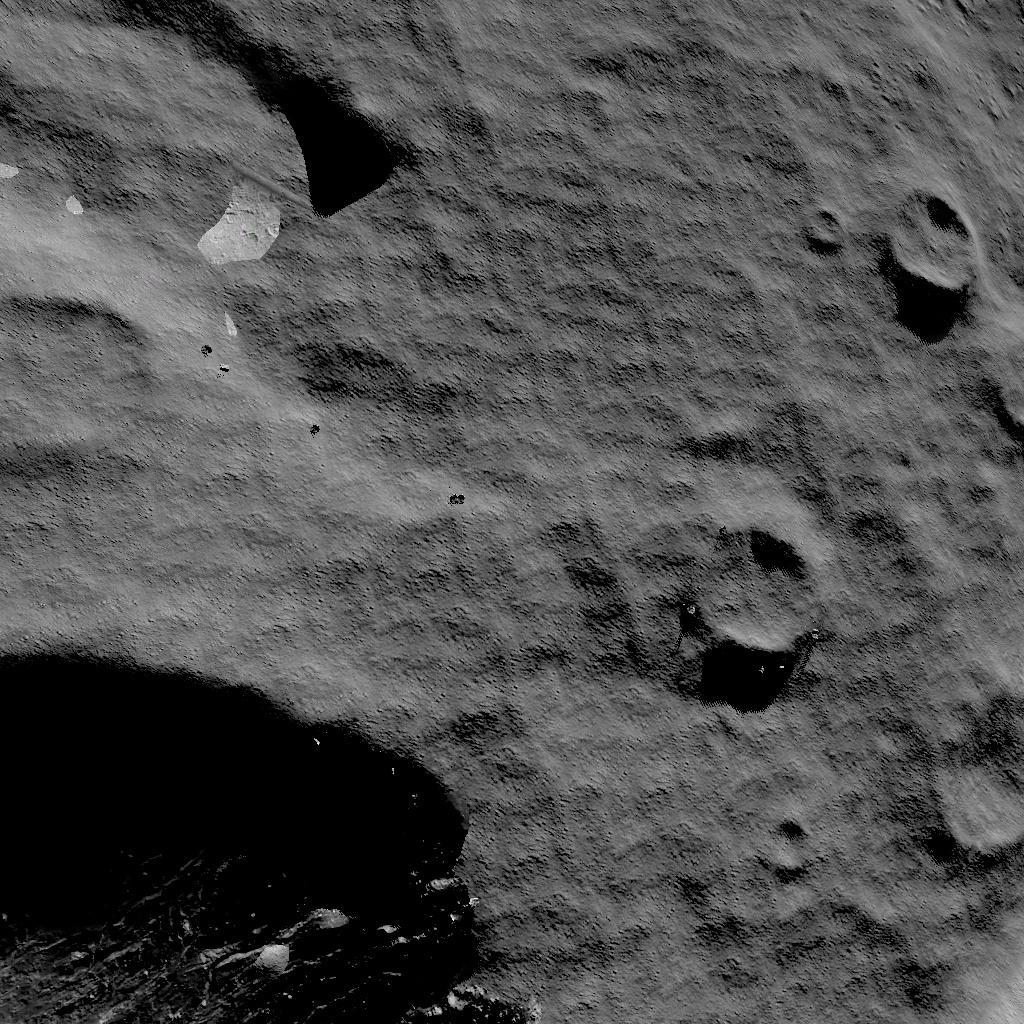Boulders: (186, 168, 297, 274)
Crater: (0, 638, 505, 1024), (4, 278, 147, 484), (670, 490, 825, 656), (902, 675, 1024, 856), (877, 178, 992, 324), (756, 806, 819, 874), (800, 186, 853, 264)
Plan surface: (430, 0, 787, 414), (546, 673, 721, 1024)
